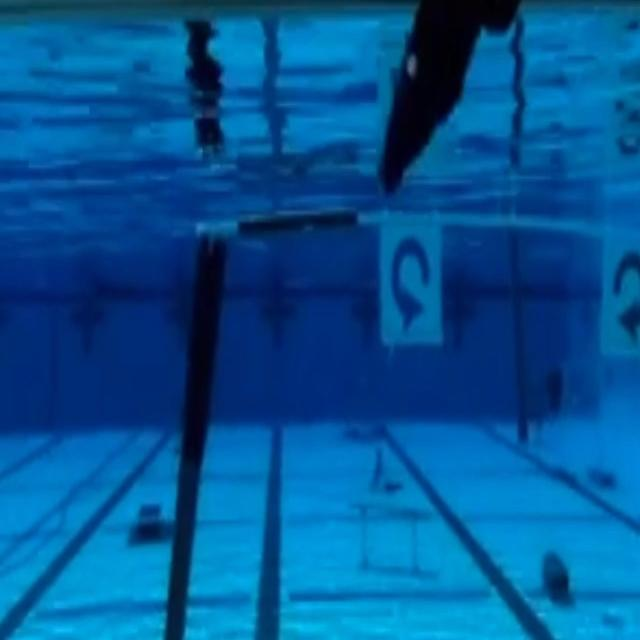Gate: (160, 204, 640, 640)
